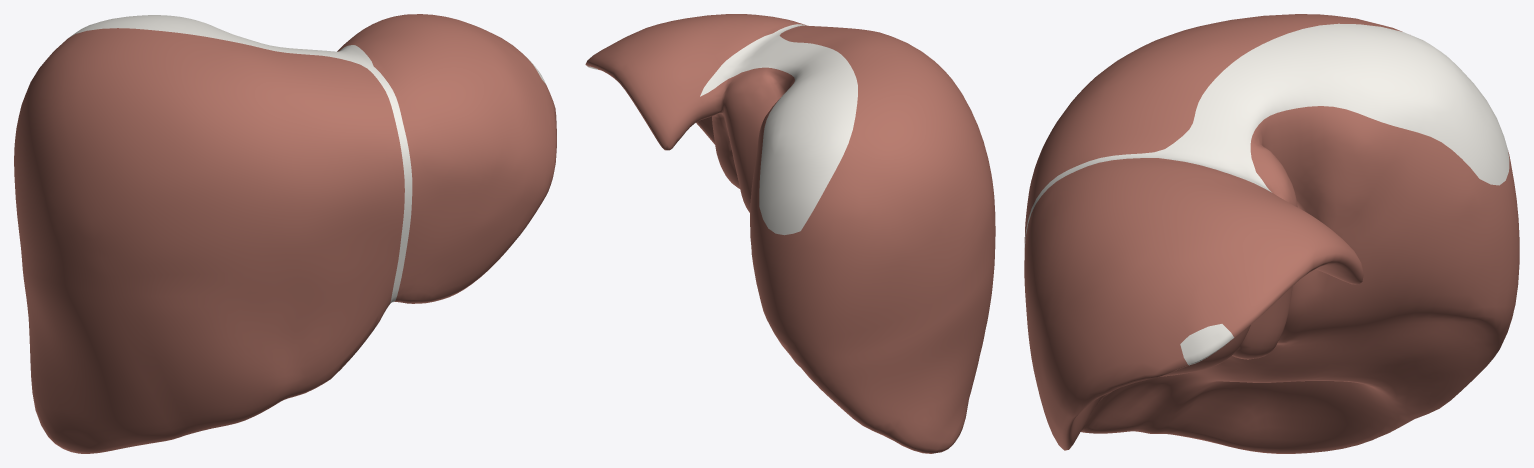
The model's file is fegato-test.glb.
The picture shows the model from 3 angles, left to right: view 1: azimuth 30°, elevation 25°; view 2: azimuth 150°, elevation 25°; view 3: azimuth 270°, elevation 25°; orthographic projection. The views are drawn at different scales.
Parts seen in each view (by area): view 1: Liver; view 2: Liver; view 3: Liver.
Part boxes in pixels (left/top/right/bottom): Liver: left=14, top=14, right=556, bottom=453; Liver: left=585, top=14, right=995, bottom=453; Liver: left=1024, top=14, right=1519, bottom=453.
Bounding box in the file's own units: 0.2063 × 0.1663 × 0.1532.
